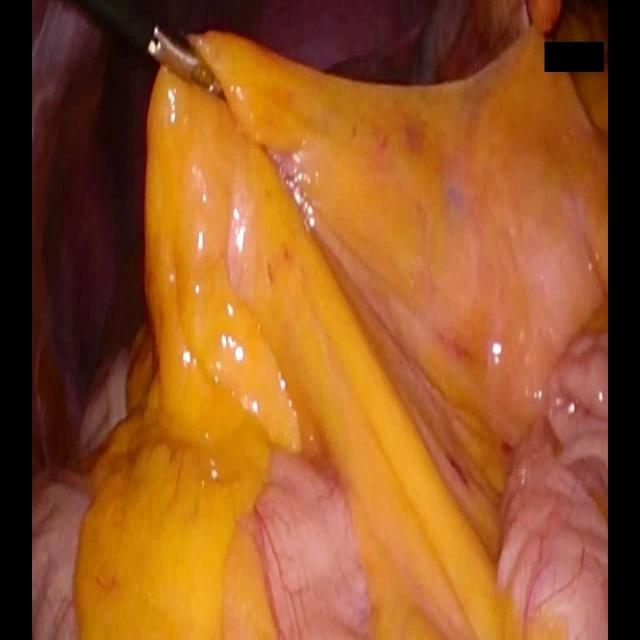surgical-area: (30, 0, 610, 639)
surgical-tool: (62, 0, 226, 103)
